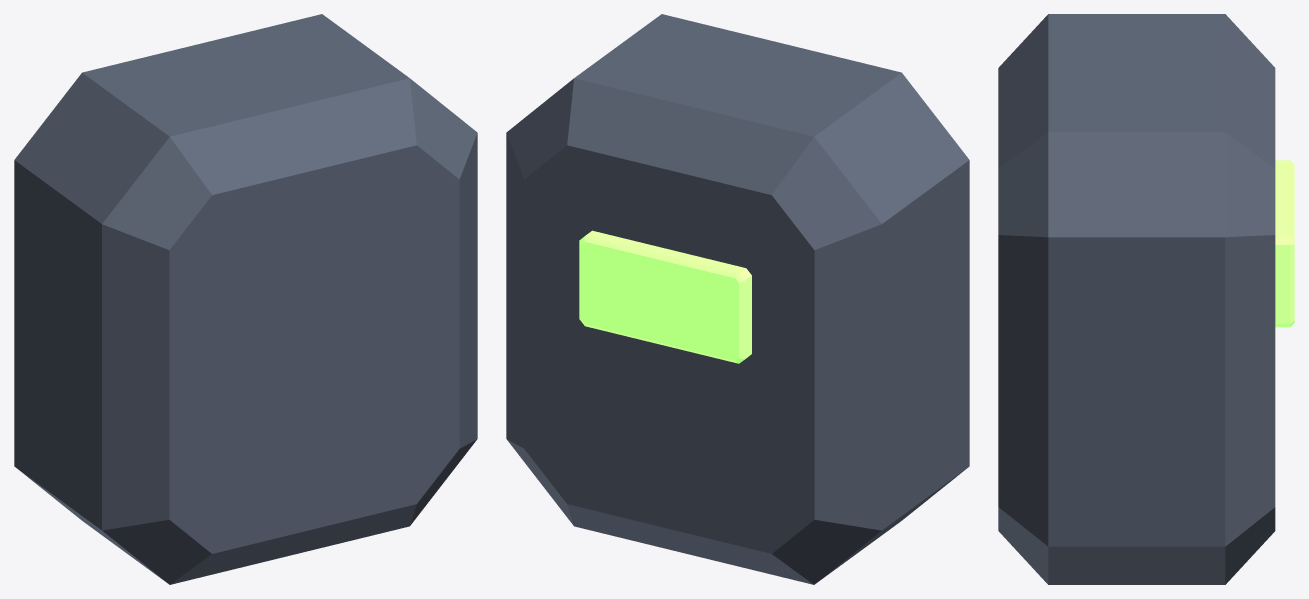
File: tower_detector_analysis_s2.glb
The picture shows the model from 3 angles, left to right: view 1: azimuth 30°, elevation 25°; view 2: azimuth 150°, elevation 25°; view 3: azimuth 270°, elevation 25°; orthographic projection.
Visible parts, largest first — view 1: detector_recorder; view 2: detector_recorder, detector_recorder_face; view 3: detector_recorder, detector_recorder_face.
Boxes of the visible parts, box(x1,y1,x2,y2) form: detector_recorder: box(14, 14, 477, 584); detector_recorder: box(506, 14, 969, 584); detector_recorder_face: box(579, 230, 751, 363); detector_recorder: box(998, 14, 1275, 584); detector_recorder_face: box(1275, 160, 1294, 327).
Bounding box in the file's own units: 0.2848 × 0.3248 × 0.1925.
